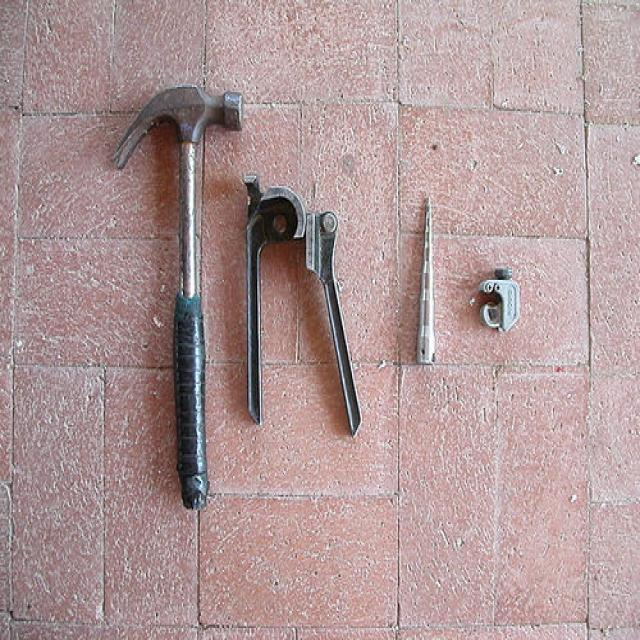hammer: (104, 74, 264, 522)
